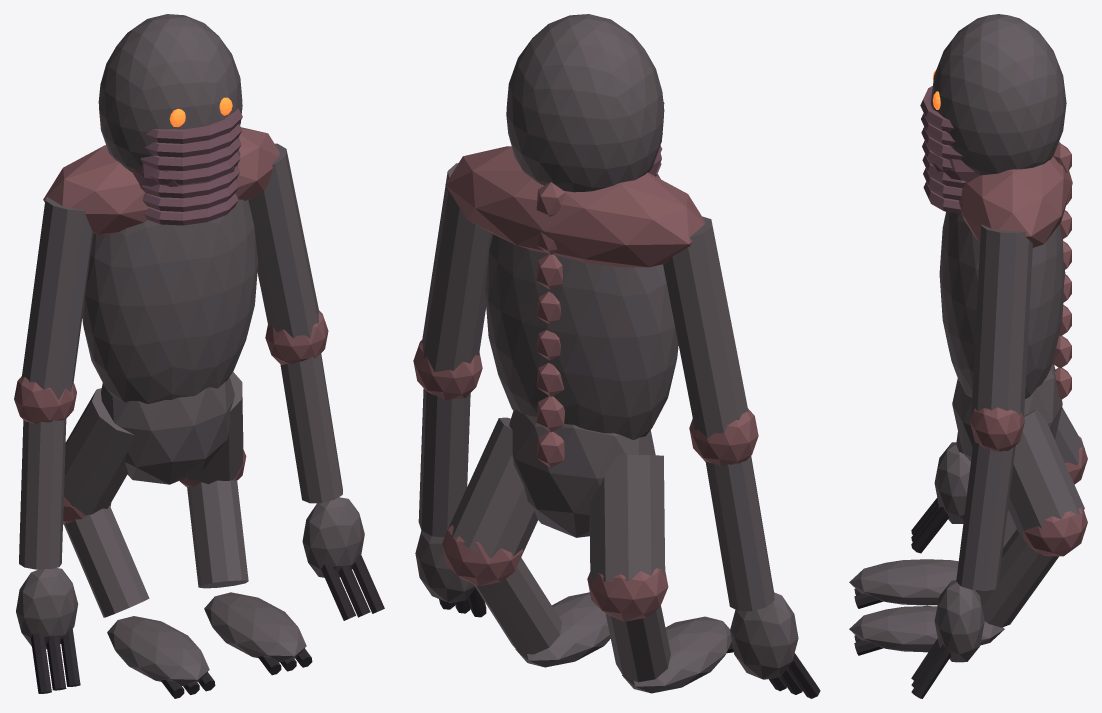
File: the_mimic.glb
3 views of the same model, side by side, from view 1: azimuth 30°, elevation 25°; view 2: azimuth 150°, elevation 25°; view 3: azimuth 270°, elevation 25° (orthographic). The views are drawn at different scales.
Visible parts, largest first — view 1: Ribcage, Head, Upper arm L, Pelvis, Upper arm R, Shoulder mantle, Forearm L, Forearm R, Thigh L, Shin R, Shin L, Foot R (+20 smaller); view 2: Ribcage, Head, Shoulder mantle, Upper arm L, Pelvis, Upper arm R, Thigh L, Forearm L, Thigh R, Forearm R, Shin R, Hand L (+15 smaller); view 3: Head, Ribcage, Upper arm R, Shoulder mantle, Forearm R, Thigh R, Foot L, Shin R, Foot R, Hand R, Pelvis, Hand L (+15 smaller).
Boxes of the visible parts, <box> form: Ribcage: <box>82,199,258,403</box>; Head: <box>98,14,242,172</box>; Upper arm L: <box>21,197,93,399</box>; Pelvis: <box>101,377,234,484</box>; Upper arm R: <box>248,143,319,338</box>; Shoulder mantle: <box>43,127,279,234</box>; Forearm L: <box>19,419,66,569</box>; Forearm R: <box>280,353,342,503</box>; Thigh L: <box>64,388,134,515</box>; Shin R: <box>187,480,248,588</box>; Shin L: <box>64,505,149,617</box>; Foot R: <box>204,592,306,662</box>; Ribcage: <box>485,234,678,439</box>; Head: <box>506,14,664,192</box>; Shoulder mantle: <box>445,146,704,267</box>; Upper arm L: <box>663,216,748,438</box>; Pelvis: <box>509,410,655,537</box>; Upper arm R: <box>422,163,492,371</box>; Thigh L: <box>589,454,665,582</box>; Forearm L: <box>705,456,774,611</box>; Thigh R: <box>449,417,537,560</box>; Forearm R: <box>418,388,470,537</box>; Shin R: <box>473,557,561,654</box>; Hand L: <box>730,592,798,679</box>; Head: <box>930,14,1066,175</box>; Ribcage: <box>939,211,1065,398</box>; Upper arm R: <box>971,224,1032,416</box>; Shoulder mantle: <box>959,141,1072,247</box>; Forearm R: <box>956,438,1015,590</box>; Thigh R: <box>1008,409,1084,536</box>; Foot L: <box>849,559,958,605</box>; Shin R: <box>975,529,1058,627</box>; Foot R: <box>849,606,1004,652</box>; Hand R: <box>934,580,984,662</box>; Pelvis: <box>952,363,1062,461</box>; Hand L: <box>934,442,970,523</box>.
Size of the model in its own units: 1.56 by 2.65 by 0.95.
